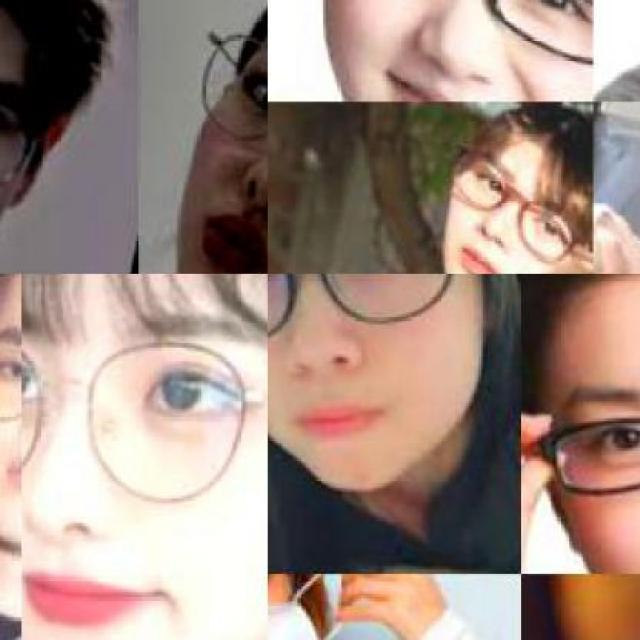mask: (23, 337, 267, 511), (446, 148, 580, 264), (268, 274, 490, 334), (523, 414, 640, 509), (176, 28, 268, 142)
